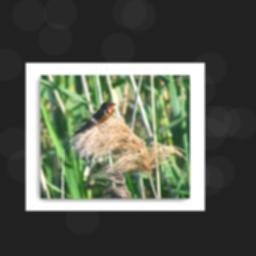Swallow: (68, 100, 119, 138)
